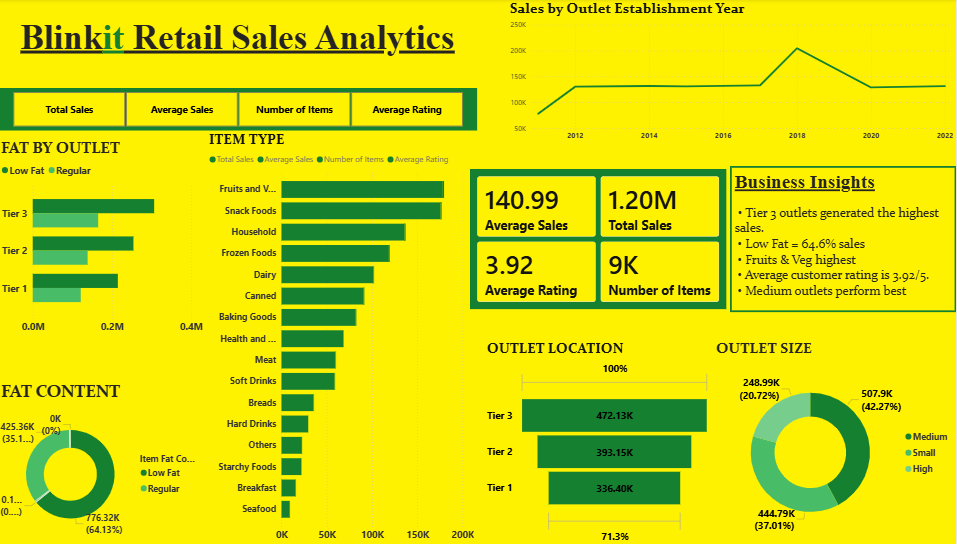

Layout of this report page (visuals, bound fields, positions):
{"tool":"powerbi","page":{"name":"Page 1","canvas":[1600,915],"ordinal":0},"visuals":[{"type":"donutChart","title":"FAT CONTENT","fields":{"Y":["BlinkIT-Grocery-Data.Total Sales","BlinkIT-Grocery-Data.Average Sales","BlinkIT-Grocery-Data.Number of Items","BlinkIT-Grocery-Data.Average Rating"],"Category":["BlinkIT-Grocery-Data.Item Fat Content"]},"box":[0,636.6,347.5,278.7],"z":0},{"type":"barChart","title":"ITEM TYPE","fields":{"Y":["BlinkIT-Grocery-Data.Total Sales","BlinkIT-Grocery-Data.Average Sales","BlinkIT-Grocery-Data.Number of Items","BlinkIT-Grocery-Data.Average Rating"],"Category":["BlinkIT-Grocery-Data.Item Type"]},"box":[347.3,218.7,452.5,696.3],"z":1000},{"type":"clusteredBarChart","title":"FAT BY OUTLET","fields":{"Y":["BlinkIT-Grocery-Data.Total Sales"],"Category":["BlinkIT-Grocery-Data.Outlet Location Type"],"Series":["BlinkIT-Grocery-Data.Item Fat Content"]},"box":[0,232.1,347.3,335.6],"z":2000},{"type":"lineChart","title":"Sales by Outlet Establishment Year","fields":{"Category":["BlinkIT-Grocery-Data.Outlet Establishment Year"],"Y":["Sum(BlinkIT-Grocery-Data.Sales)"]},"box":[849.9,0,750.1,246],"z":3000},{"type":"donutChart","title":"OUTLET SIZE","fields":{"Y":["Sum(BlinkIT-Grocery-Data.Sales)"],"Category":["BlinkIT-Grocery-Data.Outlet Size"]},"box":[1194,567.7,406,347.5],"z":4000},{"type":"funnel","title":"OUTLET LOCATION","fields":{"Category":["BlinkIT-Grocery-Data.Outlet Location Type"],"Y":["Sum(BlinkIT-Grocery-Data.Sales)"]},"box":[812,567.7,381.9,347.5],"z":5000},{"type":"slicer","fields":{"Values":["Metrics.Metrics"]},"box":[0,148,800,70.5],"z":6000},{"type":"cardVisual","fields":{"Data":["BlinkIT-Grocery-Data.Average Sales","BlinkIT-Grocery-Data.Total Sales","BlinkIT-Grocery-Data.Average Rating","BlinkIT-Grocery-Data.Number of Items"]},"box":[782.8,278.7,438.7,244.3],"z":7000},{"type":"textbox","title":"Blinkit Sales Dashboard","box":[0,25.8,800,122.2],"z":8000},{"type":"textbox","box":[1222,279,378,244],"z":9000}]}

Visuals, with their boxes in screenshot pixels (x1, y1, x2, y2), scaled from the page's 1600x915 canvas onto the 957x544 screenshot:
"FAT CONTENT" donutChart: 0/378/208/543
"ITEM TYPE" barChart: 208/130/478/543
"FAT BY OUTLET" clusteredBarChart: 0/138/208/338
"Sales by Outlet Establishment Year" lineChart: 508/0/956/146
"OUTLET SIZE" donutChart: 714/338/956/543
"OUTLET LOCATION" funnel: 486/338/714/543
slicer - Metrics.Metrics: 0/88/478/130
cardVisual - BlinkIT-Grocery-Data.Average Sales x BlinkIT-Grocery-Data.Total Sales: 468/166/731/311
"Blinkit Sales Dashboard" textbox: 0/15/478/88
textbox: 731/166/956/311
